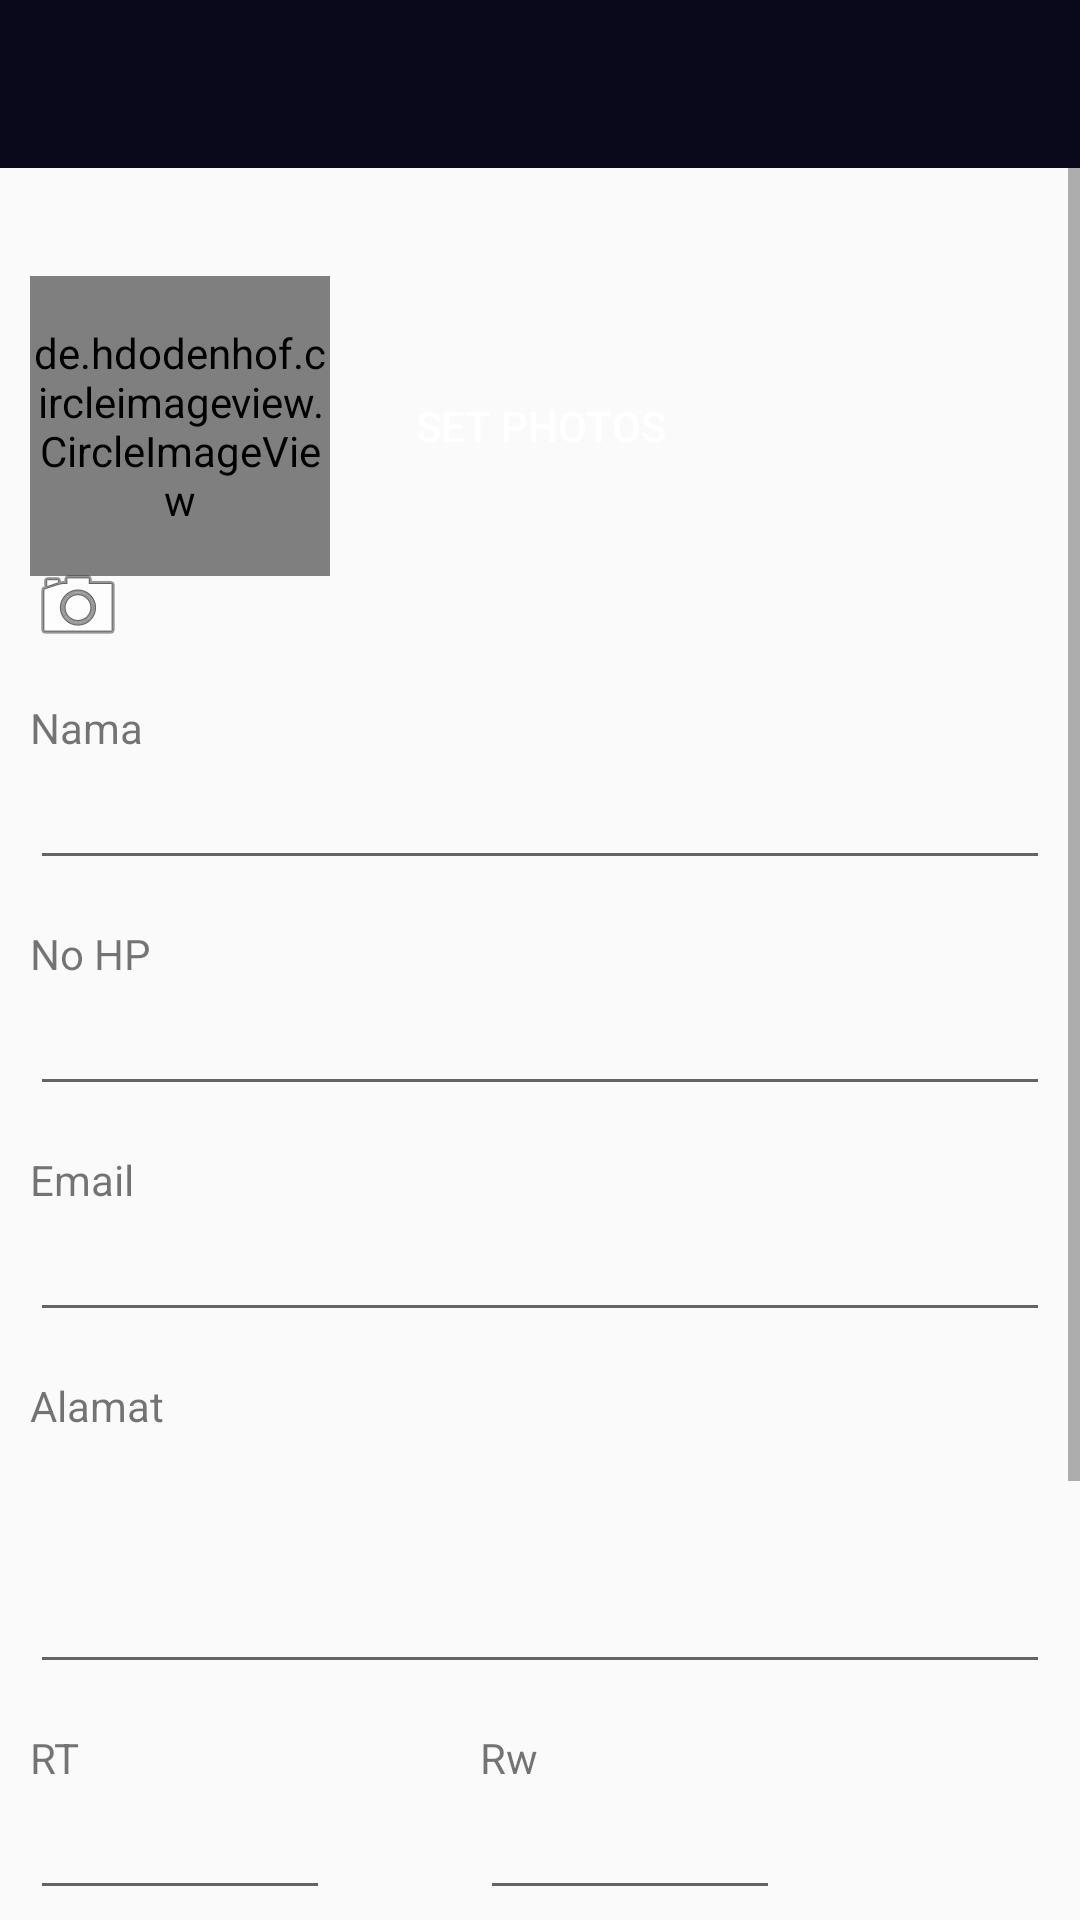

Locate icon controls on the screen. Image size 1080x1920, boxes as (x1, y1, x2, y2).
camera: (30, 558, 126, 634)
